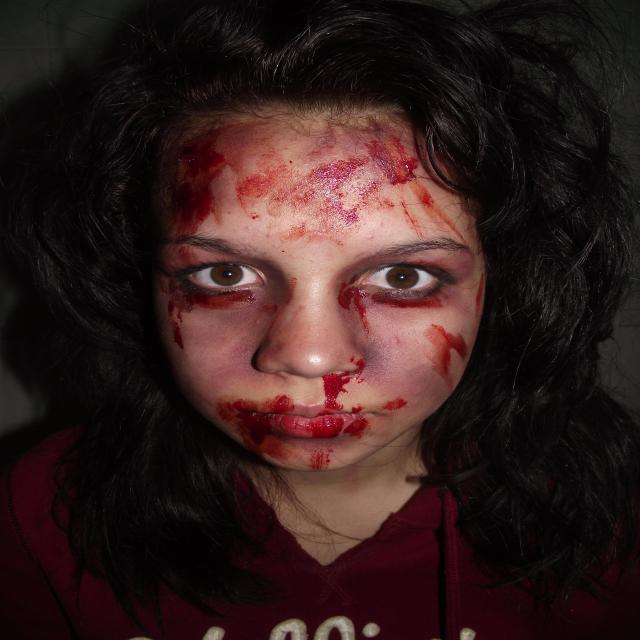flood: (167, 119, 494, 494)
